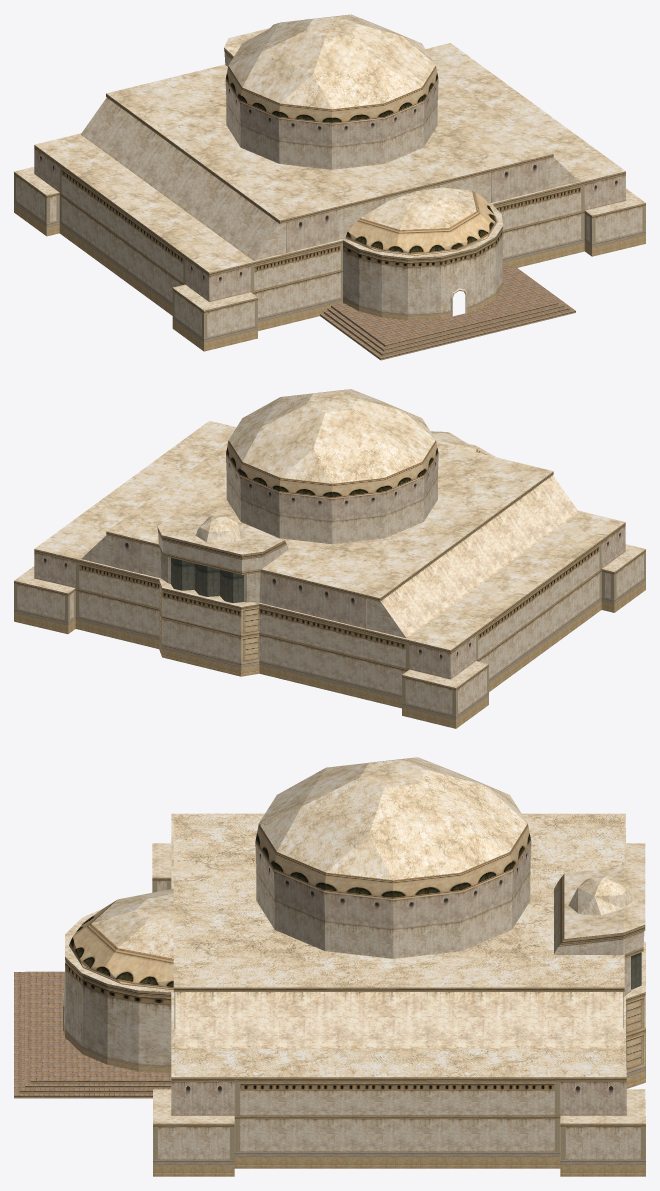
The model's file is mun_tato_hotel_s01_r0_mesh_l1.fbx.
The picture shows the model from 3 angles, top to bottom: view 1: azimuth 30°, elevation 25°; view 2: azimuth 150°, elevation 25°; view 3: azimuth 270°, elevation 25°; orthographic projection. The views are drawn at different scales.
Parts seen in each view (by area): view 1: mesh_node; view 2: mesh_node; view 3: mesh_node.
Part boxes in pixels (box(x1,y1,x2,y2)): mesh_node: box(14, 14, 645, 360); mesh_node: box(14, 389, 645, 728); mesh_node: box(14, 757, 645, 1176).
Size of the model in its own units: 59.59 by 26.33 by 56.85.
